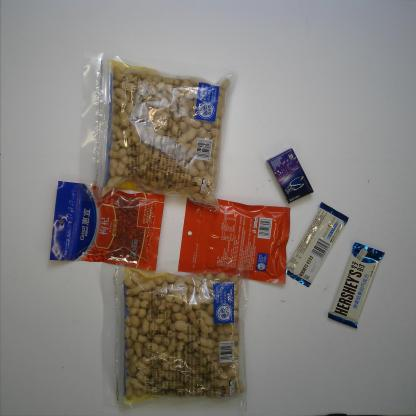Chocolate: (284, 202, 349, 289), (328, 242, 385, 329)
Dried Food: (78, 51, 238, 212), (100, 254, 250, 413)
Dried Fruit: (49, 180, 165, 271), (177, 194, 291, 285)
Gum: (266, 148, 314, 204)
